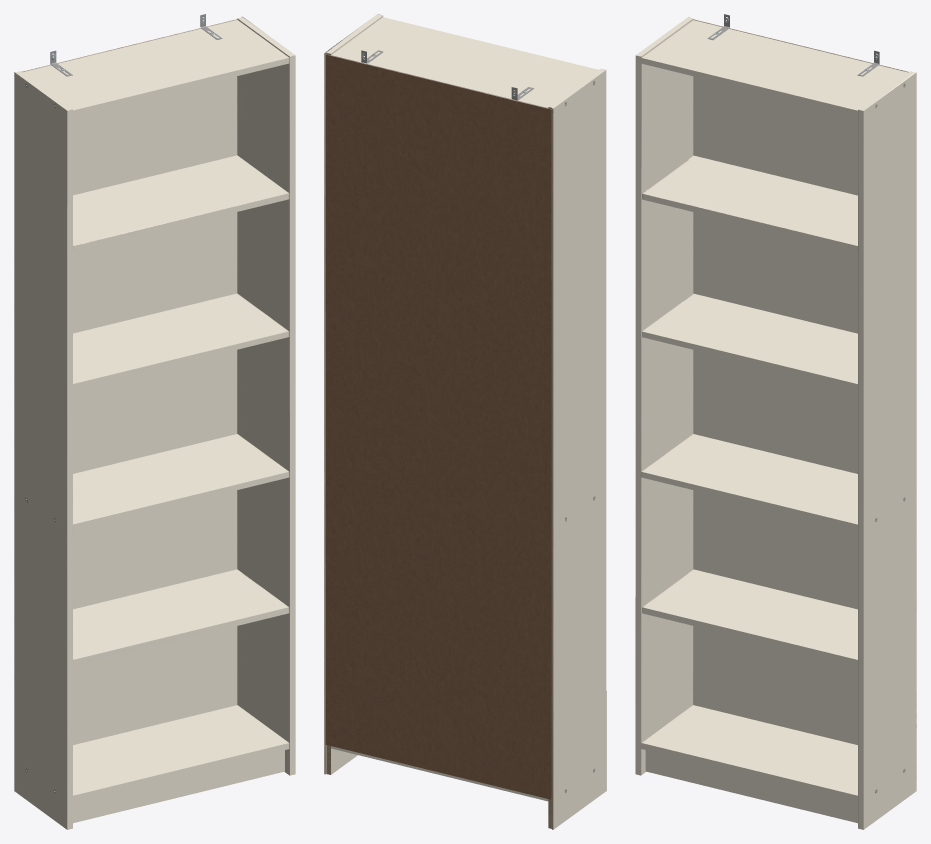
The model's file is GERSBY bookcase 1.glb.
The picture shows the model from 3 angles, left to right: view 1: azimuth 30°, elevation 25°; view 2: azimuth 150°, elevation 25°; view 3: azimuth 330°, elevation 25°; orthographic projection.
Parts seen in each view (by area): view 1: model; view 2: model; view 3: model.
Boxes of the visible parts, <box> form: model: <box>14,14,295,829</box>; model: <box>324,14,606,829</box>; model: <box>635,14,916,829</box>.
Size of the model in its own units: 0.5993 by 1.83 by 0.2403.
1 material, 1 textured.
